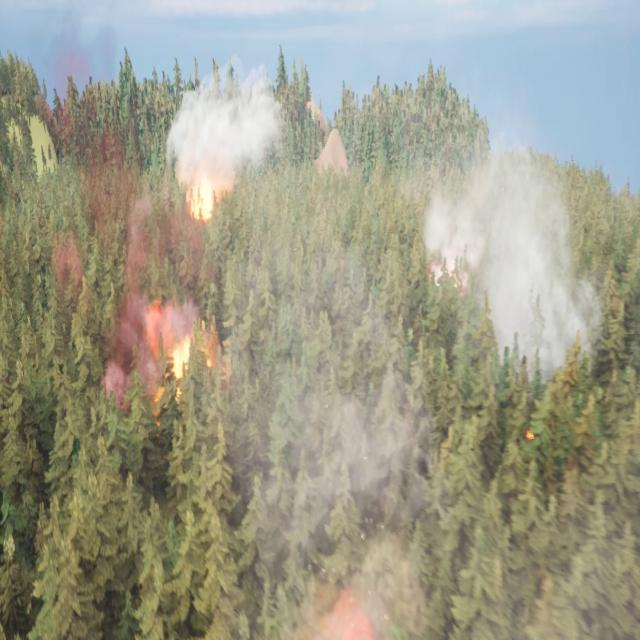fire: (168, 328, 221, 382)
smoke: (231, 231, 432, 639), (33, 54, 204, 400), (420, 133, 604, 387), (165, 54, 291, 176), (180, 176, 221, 222)
